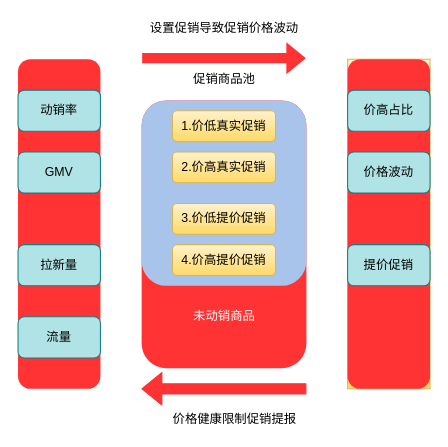
The diagram is 448 pixels wide and 447 high, and some of its shapes have lost their labels. Each missing label, with the box of its shape:
价格健康: (347, 59, 430, 388)
促销优化: (18, 59, 100, 388)
动销商品: (141, 100, 306, 285)
